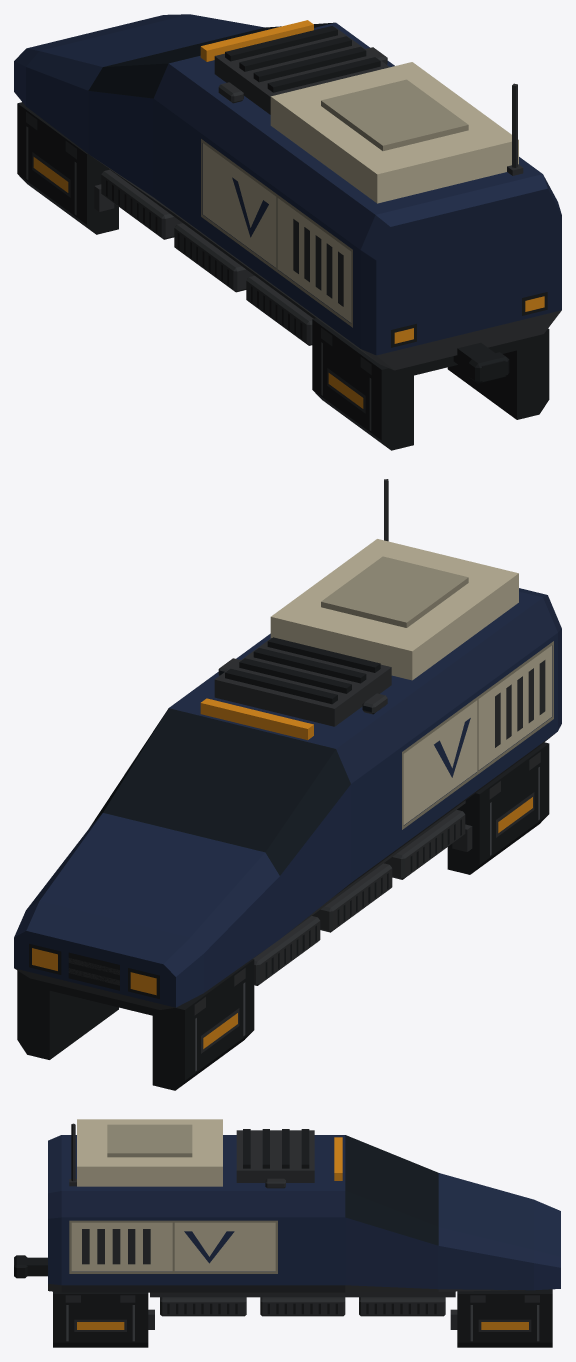
Rendered from colony-cab.glb.
The picture shows the model from 3 angles, top to bottom: view 1: azimuth 30°, elevation 25°; view 2: azimuth 150°, elevation 25°; view 3: azimuth 270°, elevation 25°; orthographic projection. The views are drawn at different scales.
Parts seen in each view (by area): view 1: colony-cab (×2); view 2: colony-cab (×2); view 3: colony-cab (×2).
Boxes of the visible parts, x1,y1,x2,y2 form: colony-cab (×2): [14, 14, 561, 450]; colony-cab (×2): [14, 479, 561, 1090]; colony-cab (×2): [14, 1119, 560, 1347].
Bounding box in the file's own units: 9.4 × 14.3 × 32.25.
